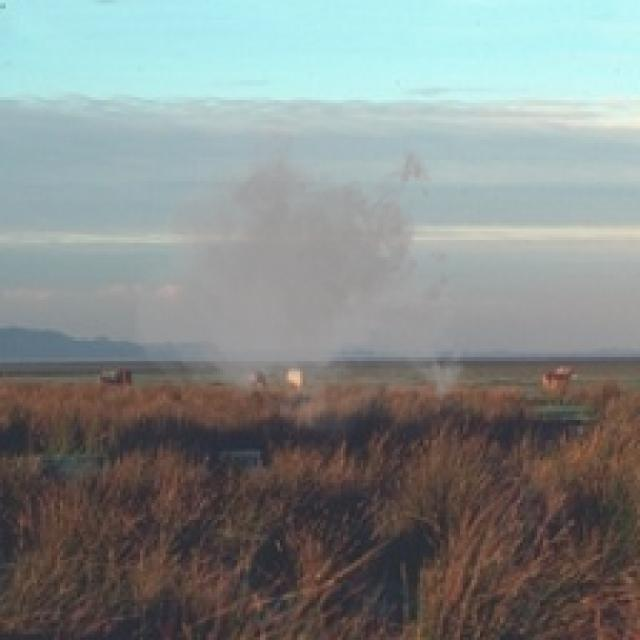Smoke: (128, 97, 474, 449)
